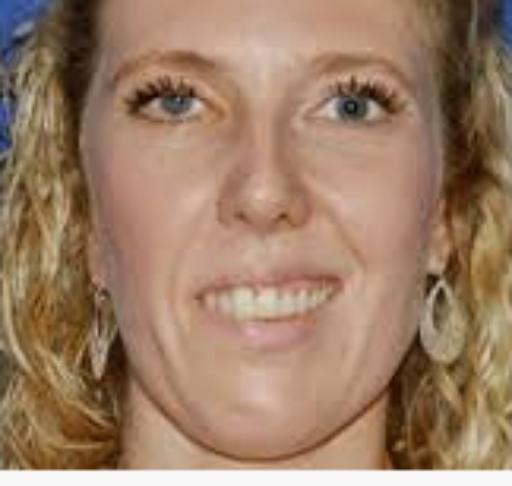left_eye: (313, 83, 398, 129)
left_lip_corner: (320, 266, 355, 292)
right_eye: (122, 85, 221, 128)
right_lip_corner: (181, 283, 228, 312)
